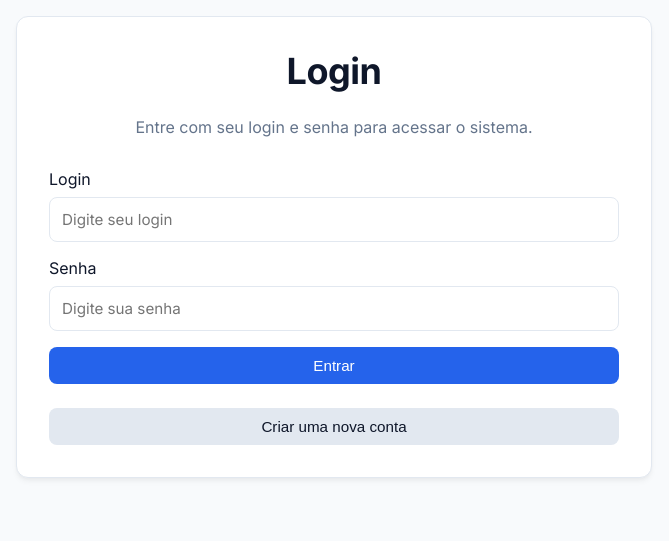
it: E2E 2 - Login com credenciais inválidas › deve exibir mensagem de erro com credenciais inválidas
The width and height of the screenshot is (669, 541).
Type "admin" into the field with placeholder "Digite seu login" at {"x": 334, "y": 220}, box [49,197,619,242]
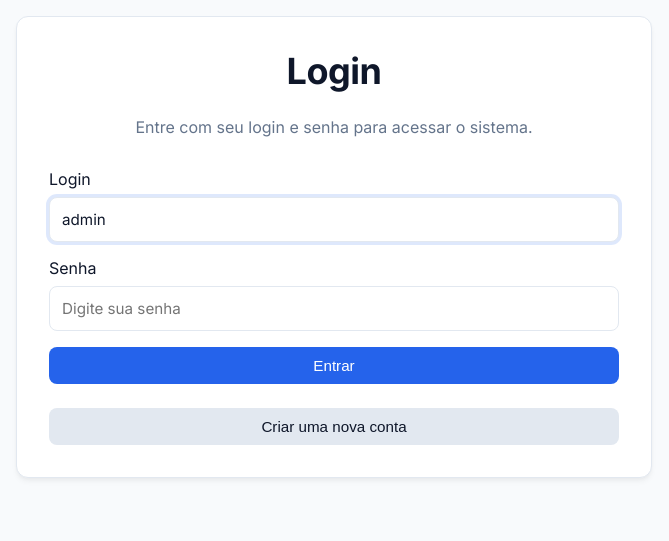
Type "senha_errada" into the password field with placeholder "Digite sua senha" at {"x": 334, "y": 309}, box [49,286,619,331]
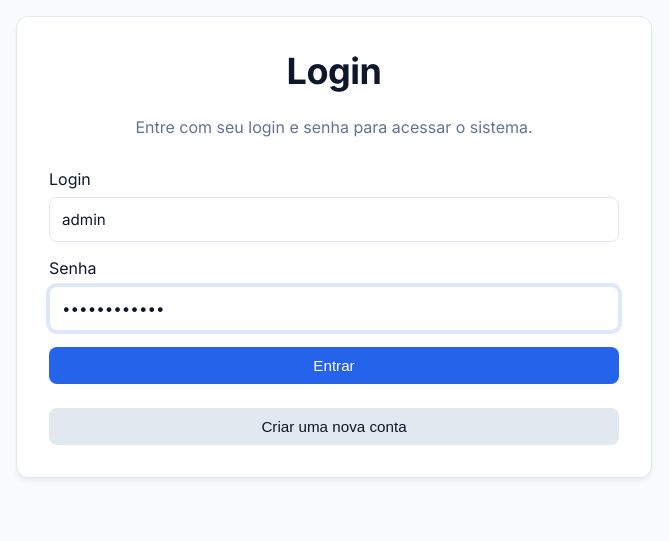
Click the submit button at {"x": 334, "y": 366}, box [49,347,619,384]
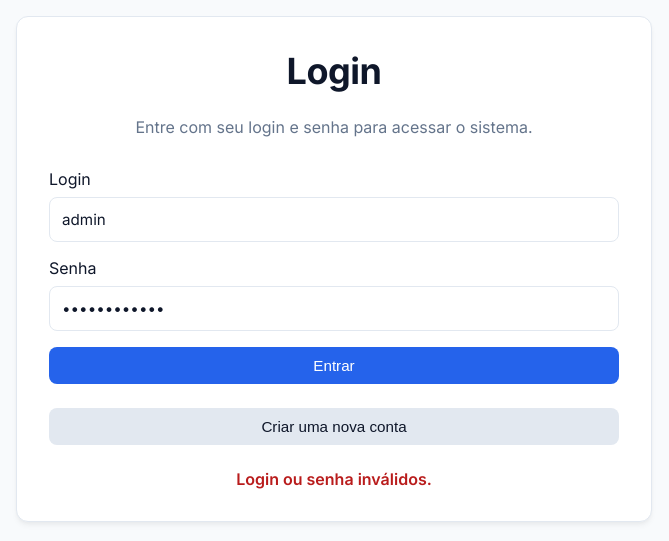
Expected: the text "Login ou senha inválidos." is shown, [236,469,432,489]
